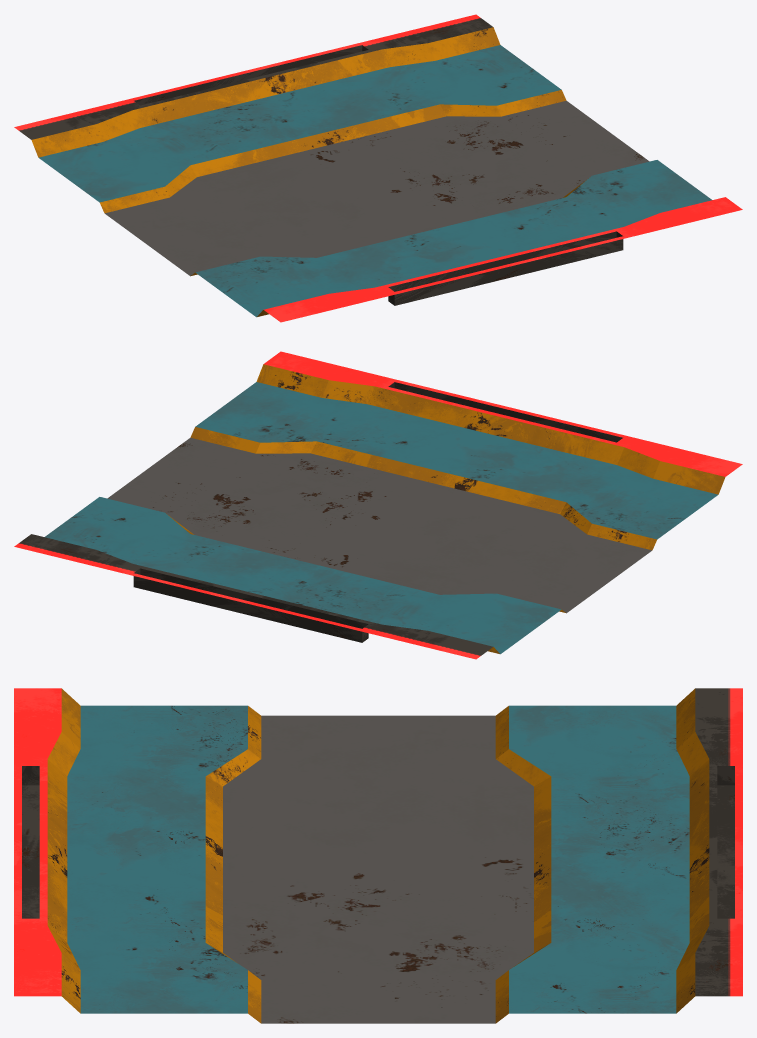
The model's file is Floor_modular_3.fbx.
3 renders of one model, top to bottom at view 1: azimuth 30°, elevation 25°; view 2: azimuth 150°, elevation 25°; view 3: azimuth 270°, elevation 25°, orthographic. The views are drawn at different scales.
Visible parts, largest first — view 1: Plane.001; view 2: Plane.001; view 3: Plane.001.
Boxes of the visible parts, x1=… form: Plane.001: x1=14, y1=14, x2=742, y2=322; Plane.001: x1=14, y1=351, x2=742, y2=659; Plane.001: x1=14, y1=688, x2=742, y2=1023.
Bounding box in the file's own units: 300 × 12.41 × 300.
